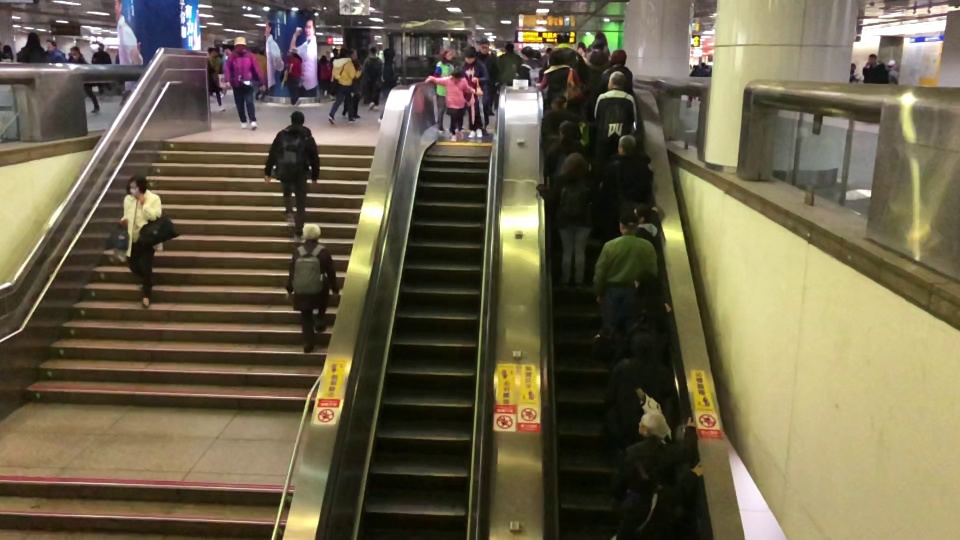person_head: (637, 410, 669, 442), (645, 456, 677, 488), (627, 329, 660, 359), (560, 151, 587, 180), (633, 269, 658, 293), (124, 174, 148, 196), (615, 134, 637, 158), (618, 211, 639, 236), (556, 119, 578, 141), (301, 221, 322, 242), (633, 202, 652, 223), (548, 93, 568, 112), (606, 71, 625, 91), (609, 48, 628, 67), (288, 110, 305, 129), (548, 49, 565, 66), (232, 36, 247, 53), (463, 46, 477, 64), (26, 31, 40, 47), (382, 48, 396, 64), (439, 48, 453, 64), (520, 46, 537, 59), (450, 64, 465, 78), (478, 38, 490, 55), (339, 47, 353, 60), (591, 38, 604, 51), (556, 32, 570, 43), (45, 38, 57, 49), (504, 43, 515, 54), (206, 47, 216, 58), (886, 59, 897, 69), (69, 46, 81, 55), (368, 46, 378, 56), (256, 45, 265, 55), (868, 53, 877, 63), (351, 48, 358, 60), (319, 54, 328, 63), (2, 45, 11, 53), (97, 43, 105, 51), (850, 63, 856, 71), (332, 47, 337, 56)
person_vbox: (601, 329, 680, 450), (590, 210, 657, 346), (610, 410, 701, 509), (535, 151, 595, 293), (613, 456, 704, 540), (263, 110, 320, 239), (284, 221, 339, 354), (595, 134, 653, 242), (118, 174, 164, 308), (610, 269, 670, 364), (223, 36, 266, 129), (425, 64, 475, 141), (593, 71, 637, 158), (540, 94, 586, 158), (327, 47, 362, 125), (461, 46, 489, 139), (536, 49, 580, 108), (543, 119, 586, 178), (67, 46, 100, 113), (593, 48, 633, 97), (376, 47, 401, 125), (476, 38, 500, 118), (433, 48, 454, 135), (554, 32, 585, 82), (341, 48, 362, 119), (362, 45, 382, 112), (206, 47, 226, 112), (511, 46, 543, 86), (495, 43, 524, 87), (90, 43, 112, 96), (582, 37, 611, 71), (634, 202, 658, 243), (16, 31, 47, 62), (862, 53, 888, 84), (254, 45, 266, 100), (44, 38, 67, 63), (317, 54, 330, 97), (886, 59, 898, 83), (1, 45, 16, 62), (849, 62, 861, 82), (330, 47, 339, 64)
